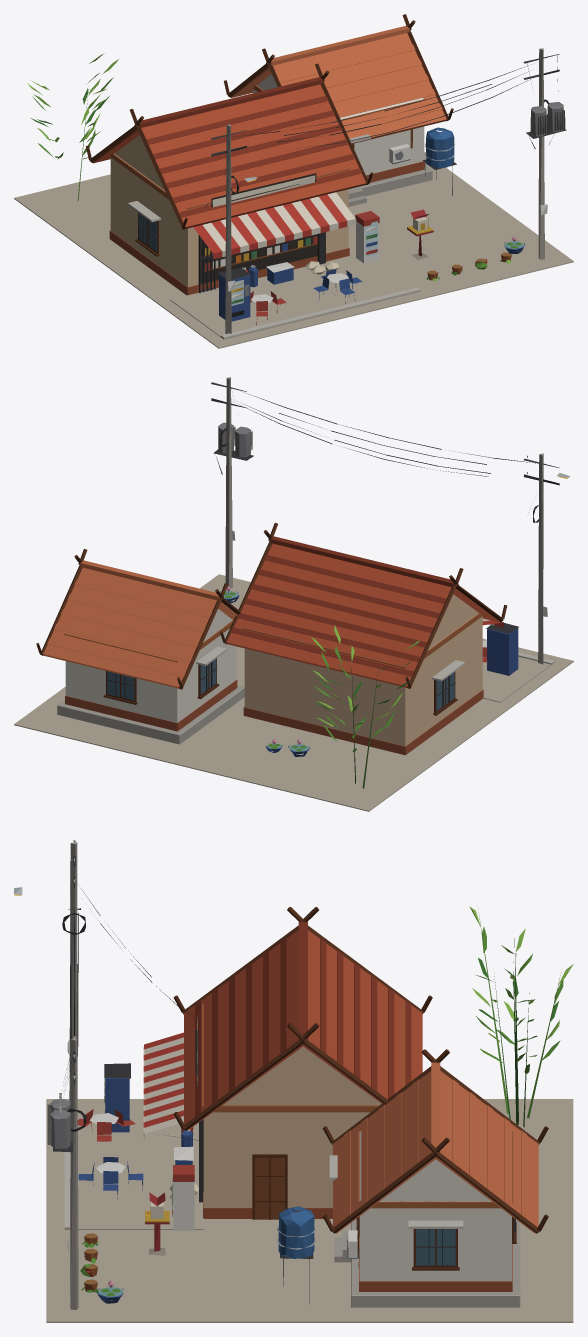
Rendered from shop_1.glb.
3 views of the same model, one above another, from view 1: azimuth 30°, elevation 25°; view 2: azimuth 150°, elevation 25°; view 3: azimuth 270°, elevation 25° (orthographic). The views are drawn at different scales.
Parts seen in each view (by area): view 1: body, windows; view 2: body, windows; view 3: body, windows.
Part boxes in pixels (left/top/right/bottom): body: left=14, top=14, right=573, bottom=348; windows: left=138, top=179, right=317, bottom=284; body: left=14, top=377, right=573, bottom=811; windows: left=107, top=476, right=568, bottom=710; body: left=14, top=840, right=573, bottom=1322; windows: left=14, top=894, right=514, bottom=1265.
Bounding box in the file's own units: 16.42 × 9.31 × 16.89.
